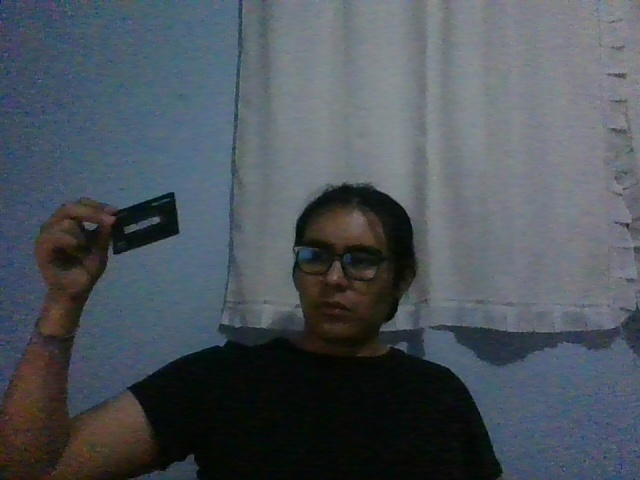tarjeta: (110, 191, 180, 256)
